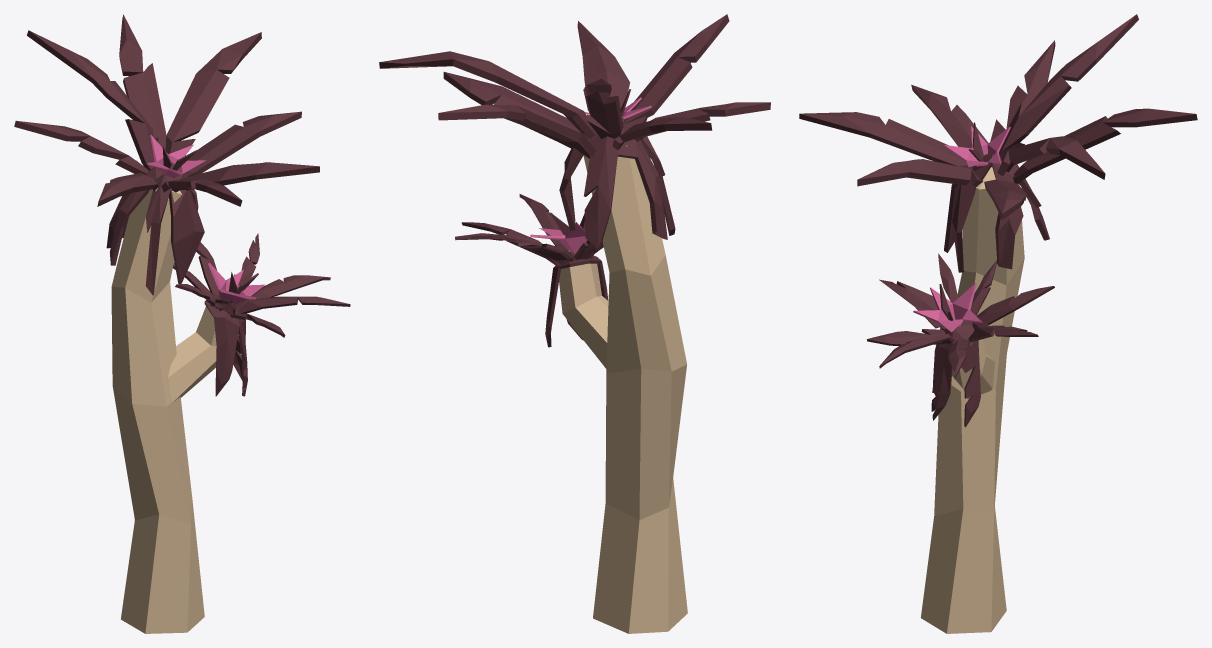
The model's file is SM_Palm_Flower_Prehistoric_Medium.fbx.
3 renders of one model, left to right at view 1: azimuth 30°, elevation 25°; view 2: azimuth 150°, elevation 25°; view 3: azimuth 270°, elevation 25°, orthographic. The views are drawn at different scales.
Visible parts, largest first — view 1: SM_Palm_Flower_Prehistoric_Medium; view 2: SM_Palm_Flower_Prehistoric_Medium; view 3: SM_Palm_Flower_Prehistoric_Medium.
Part boxes in pixels (x1,y1,x2,y2): SM_Palm_Flower_Prehistoric_Medium: [14, 14, 350, 633]; SM_Palm_Flower_Prehistoric_Medium: [379, 14, 770, 633]; SM_Palm_Flower_Prehistoric_Medium: [799, 14, 1197, 633].
Size of the model in its own units: 3.29 by 6.28 by 3.94.
